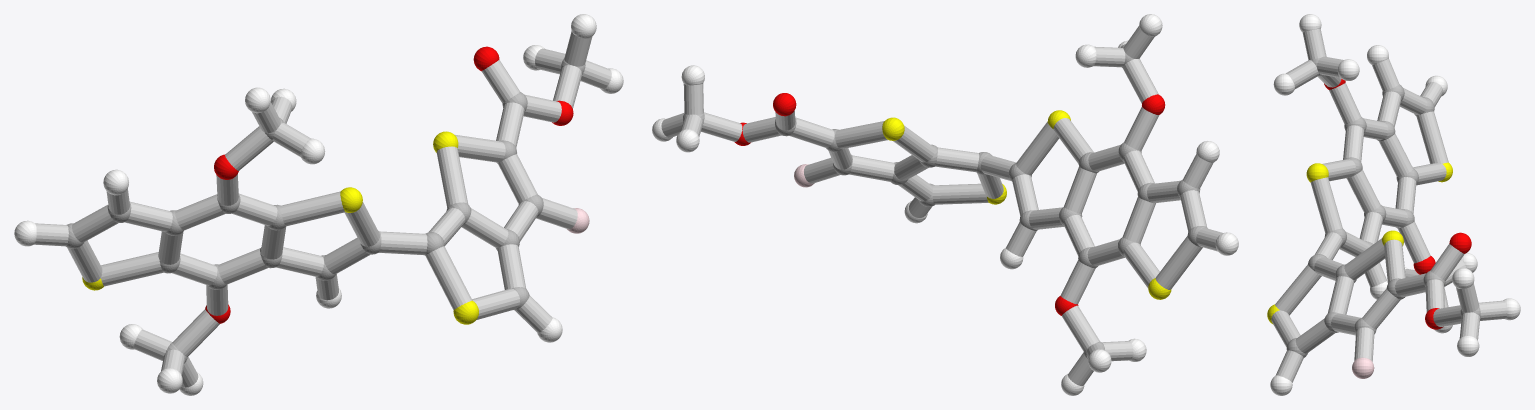
Rendered from Dimethoxy_Benzodithiophene_Phi_25_Theta_280_Methylcarbonyl_3_Fluoro_Thienothiophene.glb.
3 renders of one model, left to right at view 1: azimuth 30°, elevation 25°; view 2: azimuth 150°, elevation 25°; view 3: azimuth 270°, elevation 25°, orthographic. The views are drawn at different scales.
Visible parts, largest first — view 1: grp15205, grp8689, grp1, grp7241, grp13395; view 2: grp15205, grp8689, grp1, grp13395, grp7241; view 3: grp15205, grp8689, grp1, grp13395, grp7241, grp14843.
Boxes of the visible parts, x1,y1,x2,y2 form: grp15205: (34, 31, 611, 387); grp8689: (14, 14, 623, 395); grp1: (66, 58, 585, 363); grp7241: (82, 131, 478, 324); grp13395: (205, 46, 573, 323); grp15205: (661, 26, 1222, 385); grp8689: (652, 14, 1238, 395); grp1: (683, 47, 1207, 358); grp13395: (734, 93, 1165, 315); grp7241: (882, 110, 1171, 299); grp15205: (1271, 29, 1507, 382); grp8689: (1270, 14, 1520, 395); grp1: (1286, 58, 1480, 357); grp13395: (1324, 79, 1471, 329); grp7241: (1267, 162, 1452, 324); grp14843: (1352, 357, 1374, 378).
Size of the model in its own units: 16.73 by 9.33 by 6.84.
